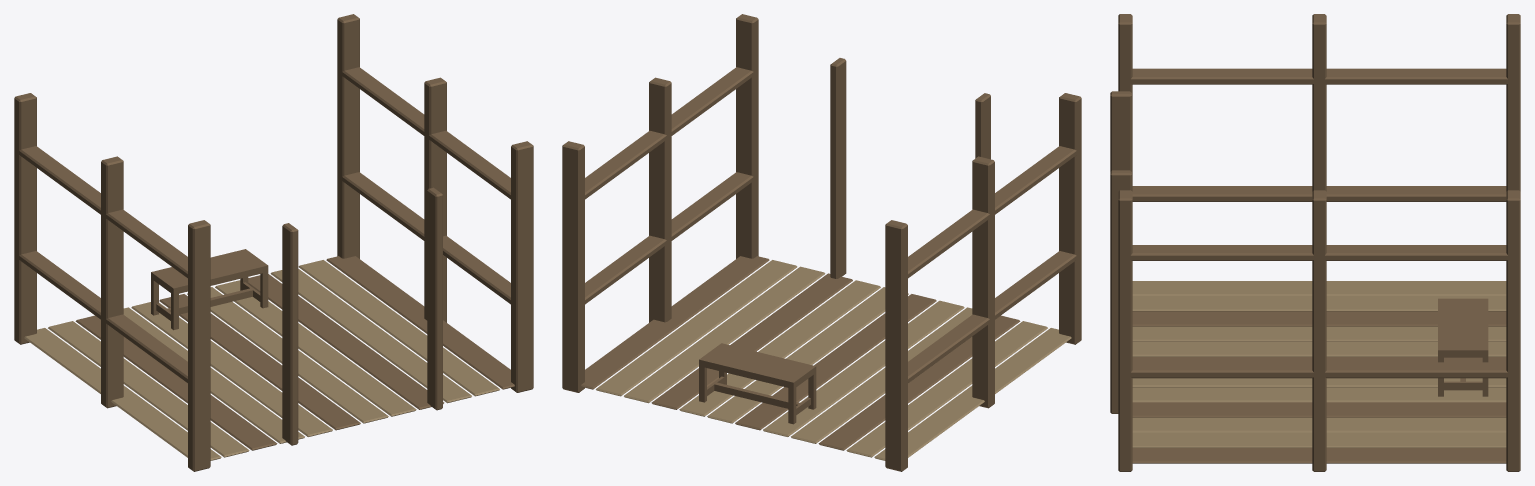
Rendered from wreck-cabin.glb.
3 views of the same model, side by side, from view 1: azimuth 30°, elevation 25°; view 2: azimuth 150°, elevation 25°; view 3: azimuth 270°, elevation 25° (orthographic). The views are drawn at different scales.
Parts seen in each view (by area): view 1: oak frame.002, oak frame.005, oak frame.003, oak frame.004, oak frame, floor plank 01, floor plank 00, floor plank 02, floor plank 03, floor plank 04, floor plank 05, Kenney captain desk (+13 smaller); view 2: oak frame, oak frame.003, oak frame.004, oak frame.005, oak frame.002, oak frame.001, Kenney captain desk, floor plank 01, floor plank 02, floor plank 00, floor plank 07, door frame (+13 smaller); view 3: oak window sill, oak window sill.003, oak window sill.001, floor plank 00, floor plank 03, oak window sill.002, floor plank 01, floor plank 02, floor plank 04, floor plank 11, floor plank 10, floor plank 09 (+13 smaller).
Part boxes in pixels (<box>): oak frame.002: <box>511,141,533,392</box>; oak frame.005: <box>188,220,210,471</box>; oak frame.003: <box>14,93,36,344</box>; oak frame.004: <box>101,156,123,408</box>; oak frame: <box>337,14,359,258</box>; floor plank 01: <box>298,260,499,396</box>; floor plank 00: <box>326,256,514,389</box>; floor plank 02: <box>270,269,471,403</box>; floor plank 03: <box>248,274,444,409</box>; floor plank 04: <box>215,280,416,416</box>; floor plank 05: <box>187,287,388,423</box>; Kenney captain desk: <box>151,249,268,330</box>; oak frame: <box>562,141,584,392</box>; oak frame.003: <box>885,220,907,471</box>; oak frame.004: <box>972,156,994,408</box>; oak frame.005: <box>1059,93,1081,344</box>; oak frame.002: <box>736,14,758,258</box>; oak frame.001: <box>649,77,671,322</box>; Kenney captain desk: <box>699,343,816,424</box>; floor plank 01: <box>596,260,797,396</box>; floor plank 02: <box>624,266,825,403</box>; floor plank 00: <box>581,256,769,389</box>; floor plank 07: <box>763,300,964,436</box>; door frame: <box>830,58,846,278</box>; oak window sill: <box>1118,362,1520,378</box>; oak window sill.003: <box>1118,68,1520,84</box>; oak window sill.001: <box>1118,245,1520,260</box>; floor plank 00: <box>1132,448,1506,463</box>; floor plank 03: <box>1132,402,1506,417</box>; oak window sill.002: <box>1132,186,1506,201</box>; floor plank 01: <box>1132,432,1506,447</box>; floor plank 02: <box>1132,417,1506,432</box>; floor plank 04: <box>1132,387,1506,402</box>; floor plank 11: <box>1132,281,1506,295</box>; floor plank 10: <box>1132,296,1506,311</box>; floor plank 09: <box>1132,311,1506,326</box>.
Size of what is drawn, in the model's own units: 6.12 by 4.2 by 5.71.
